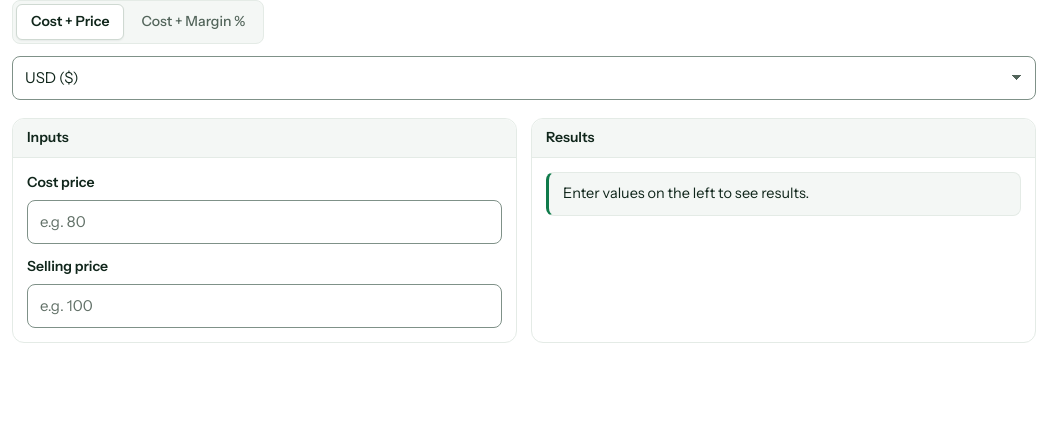
Test case: MarginCalculator › shows error for margin >= 100
The image size is (1048, 442).
Click the tab "Cost + Margin %" at [193, 22], box [126, 4, 260, 40]
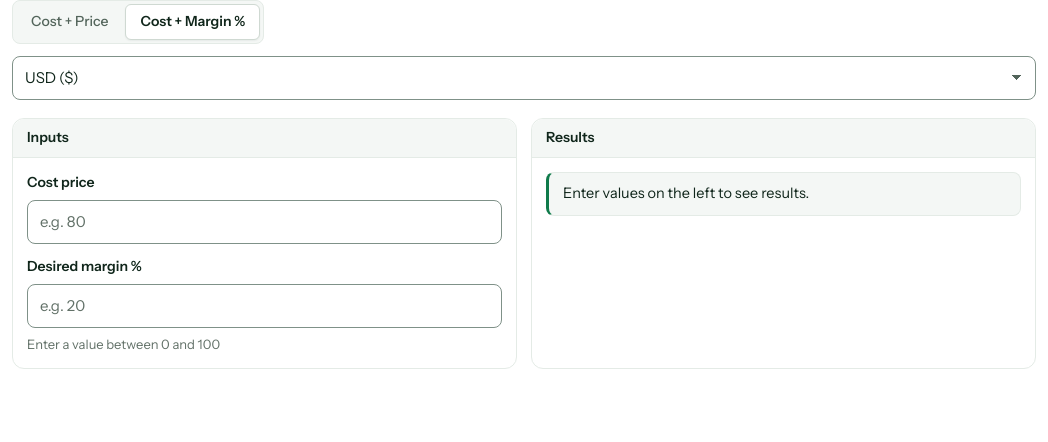
Type "80" into the number field with placeholder "e.g. 80" at [264, 222], box [27, 200, 502, 244]
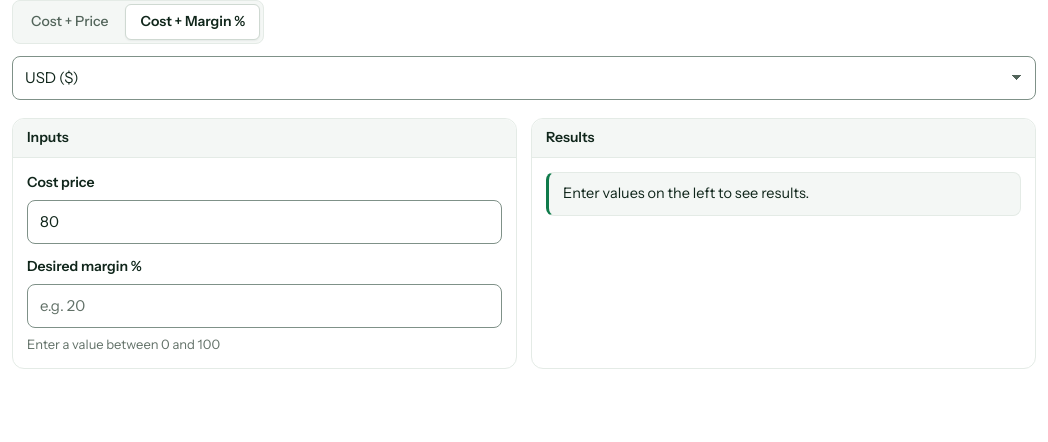
Type "100" into the number field with placeholder "e.g. 20" at [264, 306], box [27, 284, 502, 328]
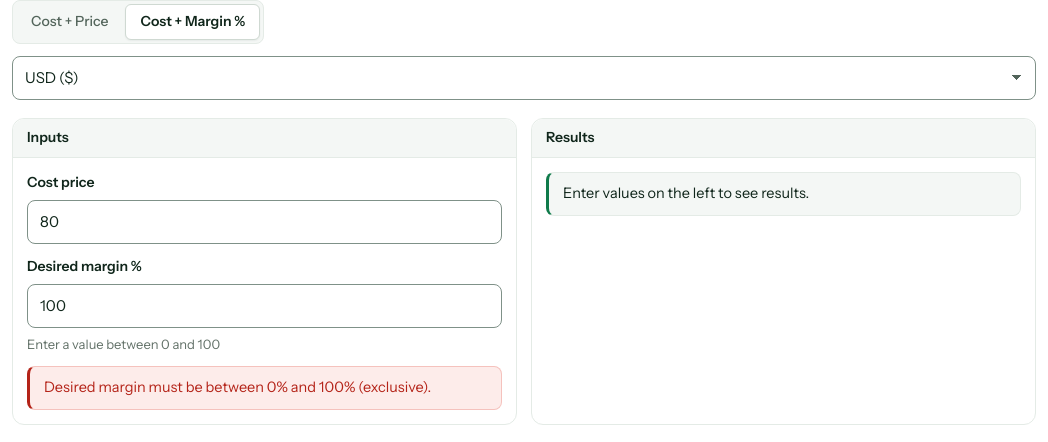
Expected: the text "Desired margin must be between 0% and 100% (exclusive)." is shown, [27, 366, 502, 410]
